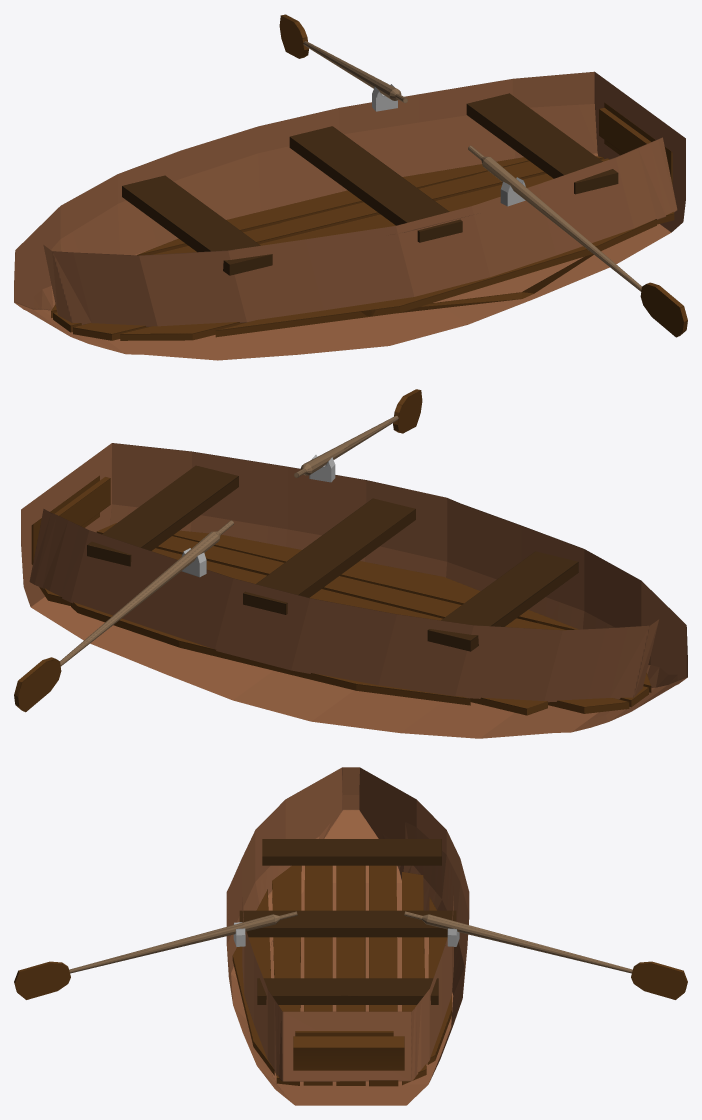
The model's file is Rowboat.glb.
3 views of the same model, one above another, from view 1: azimuth 30°, elevation 25°; view 2: azimuth 150°, elevation 25°; view 3: azimuth 270°, elevation 25° (orthographic). The views are drawn at different scales.
Parts seen in each view (by area): view 1: Node; view 2: Node; view 3: Node.
Part boxes in pixels (x1,y1,x2,y2): Node: (14, 14, 687, 360); Node: (14, 389, 687, 738); Node: (14, 767, 687, 1105).
Bounding box in the file's own units: 773 × 181 × 863.
1 material, 1 textured.
